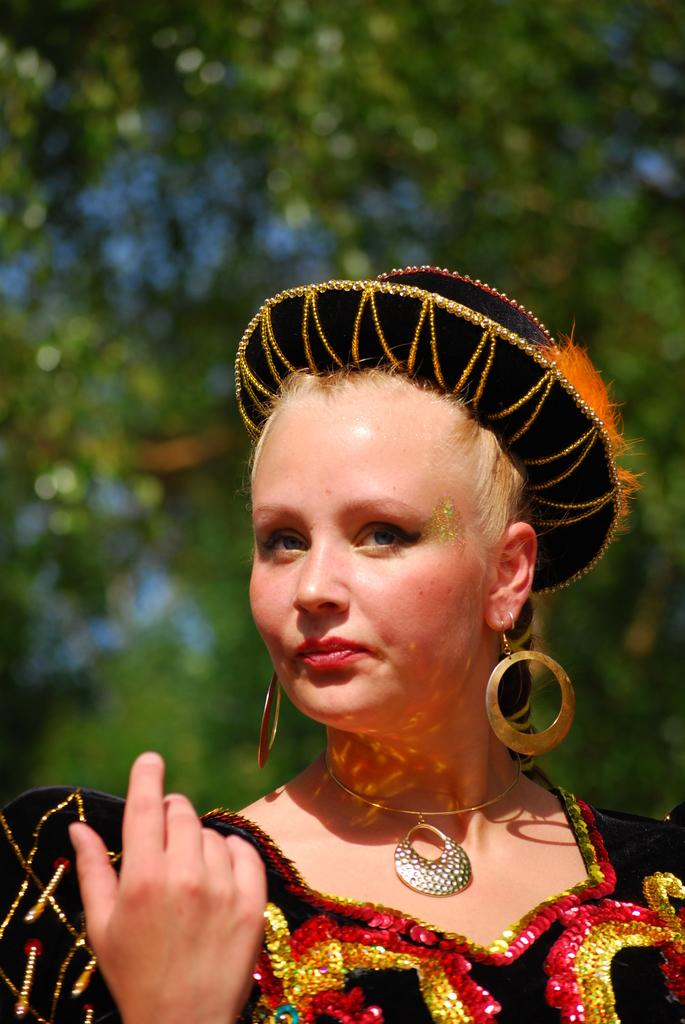Hat: (233, 259, 632, 597)
